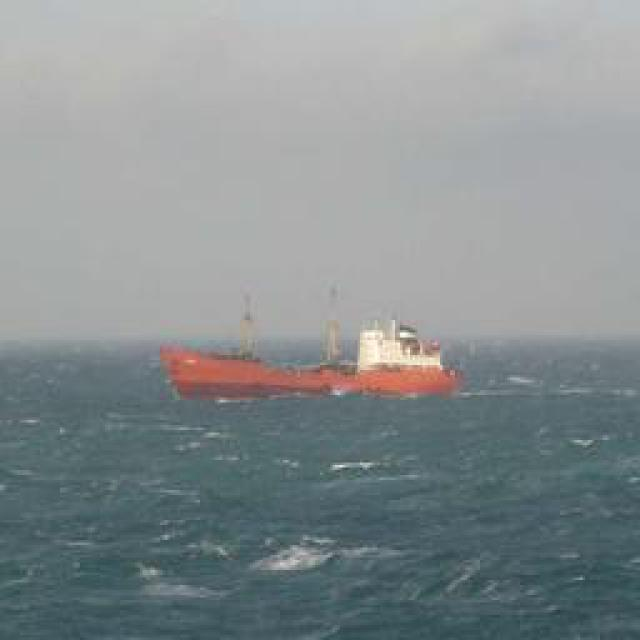Ship: (157, 278, 465, 406)
